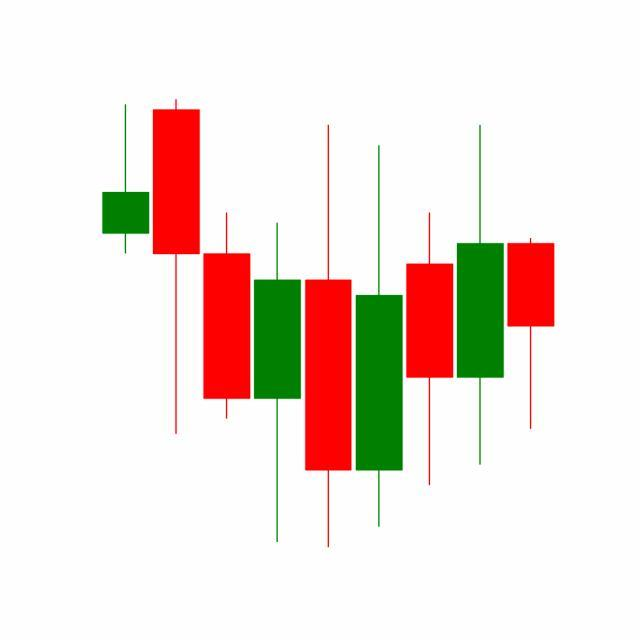Hikkake Pattern: (252, 120, 506, 548)
